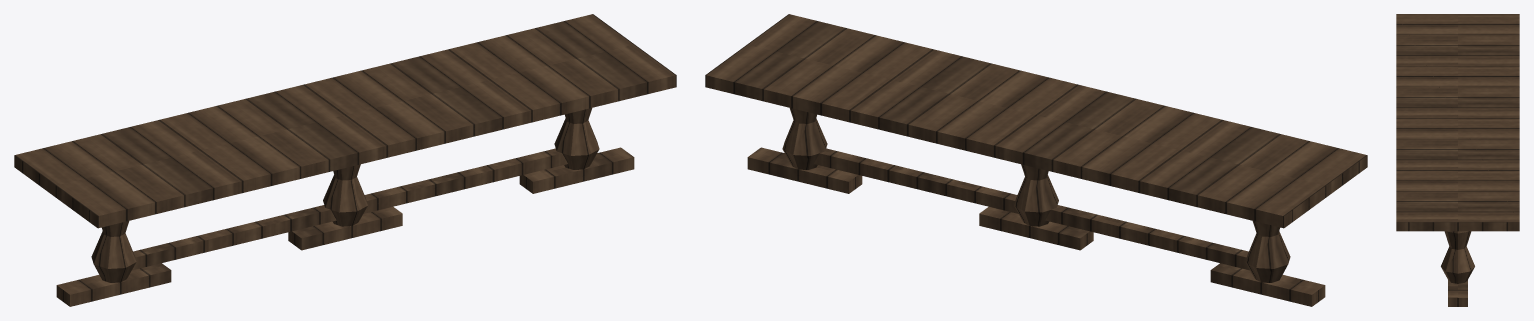
File: Table_Carved_Long_1.gltf
The picture shows the model from 3 angles, left to right: view 1: azimuth 30°, elevation 25°; view 2: azimuth 150°, elevation 25°; view 3: azimuth 270°, elevation 25°; orthographic projection. The views are drawn at different scales.
Parts seen in each view (by area): view 1: Table_Carved_Long_1; view 2: Table_Carved_Long_1; view 3: Table_Carved_Long_1.
Boxes of the visible parts, x1,y1,x2,y2 form: Table_Carved_Long_1: (14, 14, 676, 306); Table_Carved_Long_1: (705, 14, 1367, 306); Table_Carved_Long_1: (1396, 14, 1519, 306).
Bounding box in the file's own units: 4 × 0.78 × 1.
Materials: 1 (1 with a texture image).
